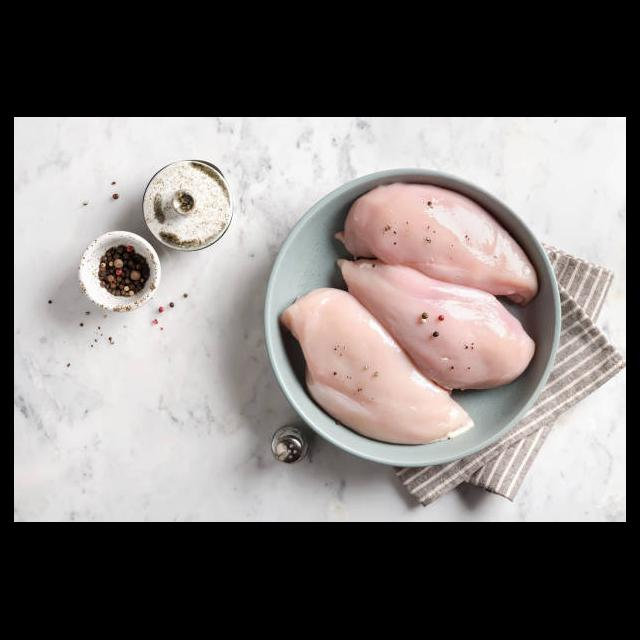chicken: (278, 285, 472, 449), (336, 258, 533, 389), (341, 186, 539, 300)
